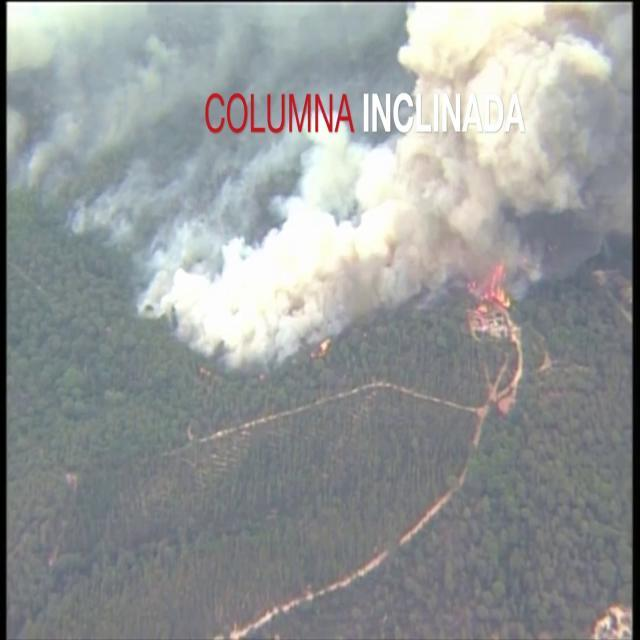Smoke: (15, 2, 622, 370)
